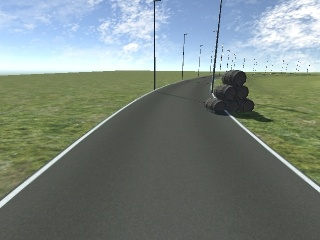Barriels: (204, 69, 269, 123)
